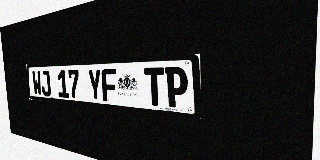1: (57, 70, 69, 98)
7: (67, 70, 80, 99)
F: (101, 69, 118, 102)
J: (40, 70, 51, 96)
P: (165, 66, 188, 109)
T: (144, 67, 165, 107)
W: (32, 71, 42, 96)
Y: (87, 69, 102, 101)
